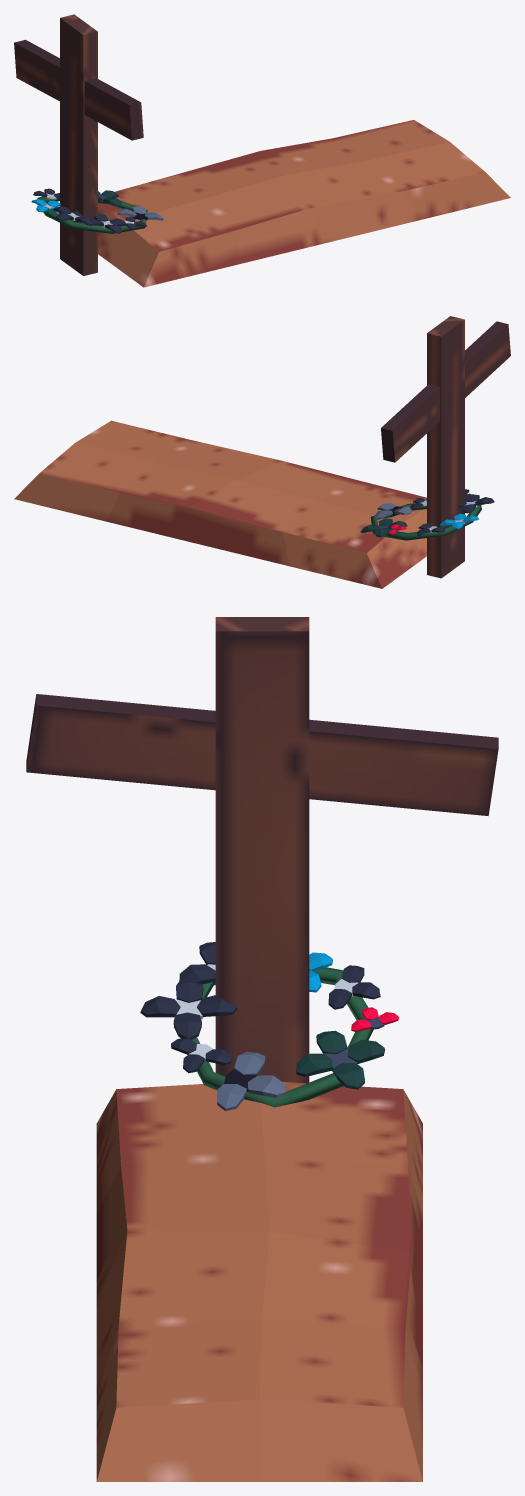
Rendered from Tumulo.fbx.
3 renders of one model, top to bottom at view 1: azimuth 30°, elevation 25°; view 2: azimuth 150°, elevation 25°; view 3: azimuth 270°, elevation 25°, orthographic. The views are drawn at different scales.
Visible parts, largest first — view 1: Tumulo; view 2: Tumulo; view 3: Tumulo.
Part boxes in pixels (box(x1,y1,x2,y2)): Tumulo: box(14, 14, 510, 287); Tumulo: box(14, 316, 510, 588); Tumulo: box(26, 617, 498, 1481).
Bounding box in the file's own units: 371 × 177 × 200.
